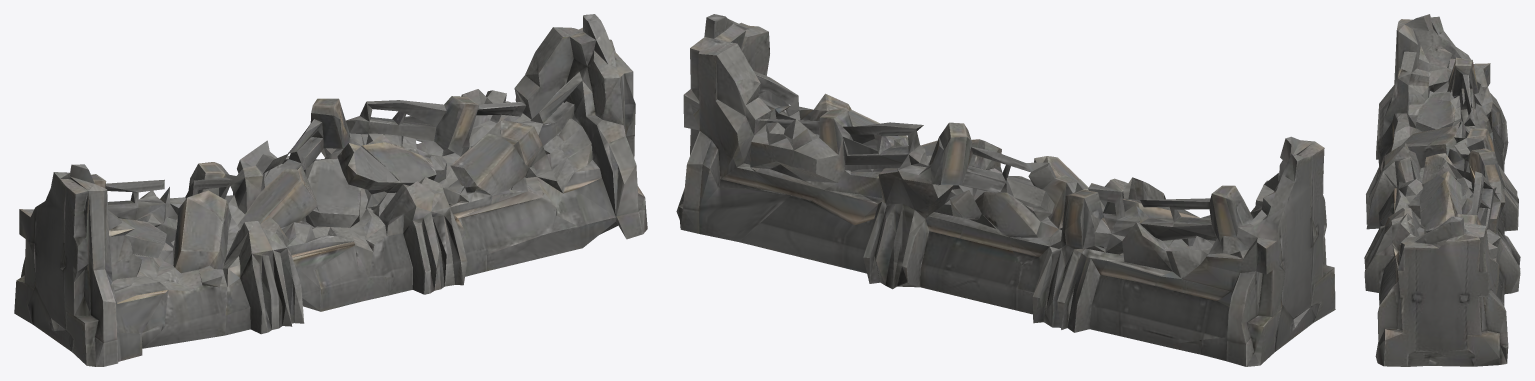
Rendered from imperial_city_wall_straight_ruined_lod1.glb.
3 views of the same model, side by side, from view 1: azimuth 30°, elevation 25°; view 2: azimuth 150°, elevation 25°; view 3: azimuth 270°, elevation 25° (orthographic). The views are drawn at different scales.
Parts seen in each view (by area): view 1: mesh_node; view 2: mesh_node; view 3: mesh_node.
Boxes of the visible parts, <box> form: mesh_node: <box>14,14,647,366</box>; mesh_node: <box>676,14,1335,366</box>; mesh_node: <box>1364,14,1520,366</box>.
Bounding box in the file's own units: 11.89 × 3.66 × 3.57.
Materials: 1 (1 with a texture image).
